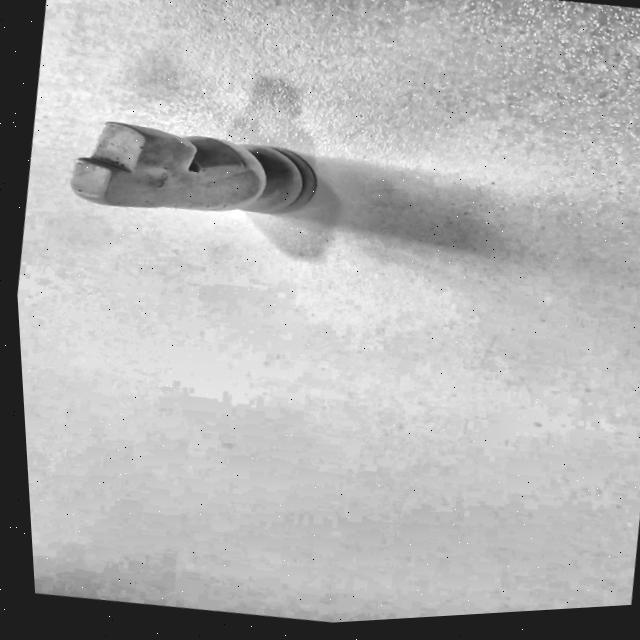white-knight: (49, 69, 342, 271)
